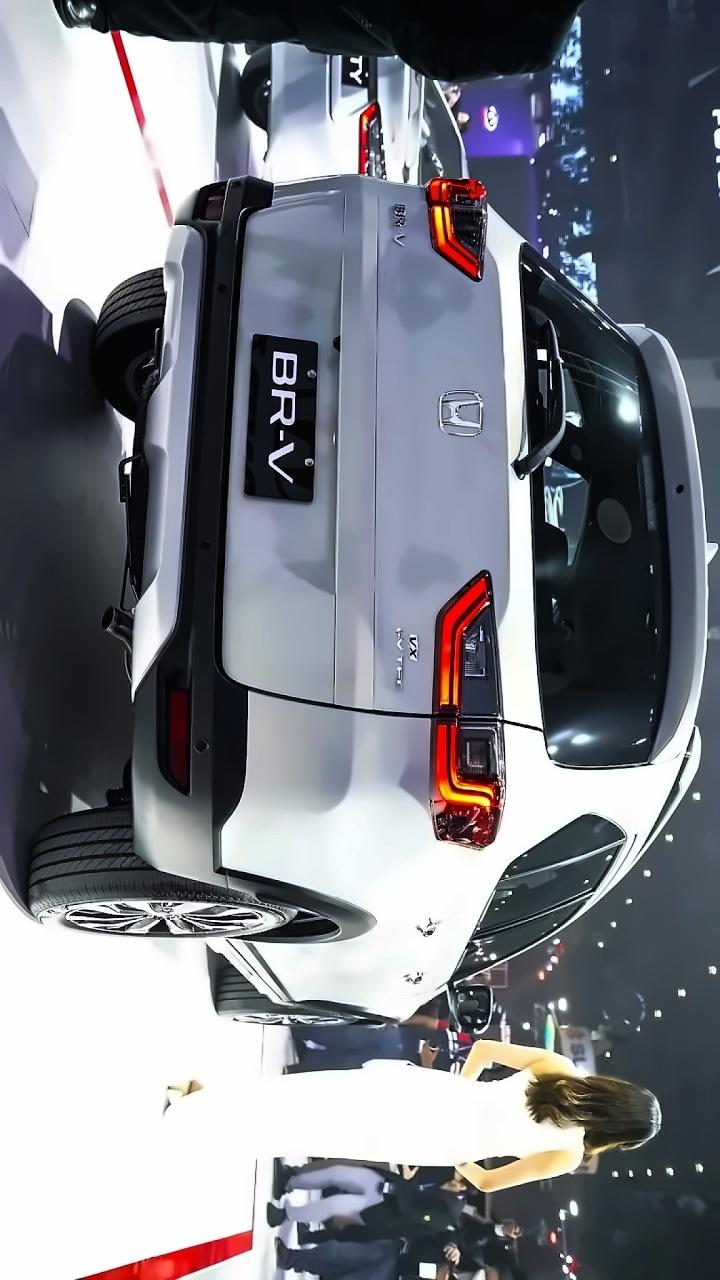Car boot: (220, 196, 681, 766)
Driver-s door - -F-R-: (250, 879, 612, 1000)
Fender - -R-R-: (200, 789, 503, 942)
Passenger-s door - -R-R-: (229, 853, 643, 949)
Rear bumper: (106, 158, 344, 978)
Rear light - -L-: (406, 166, 503, 286)
Rear light - -R-: (422, 560, 512, 857)
Side bumper - -R-: (180, 932, 308, 1022)
Side mirror - -R-: (424, 972, 508, 1049)
